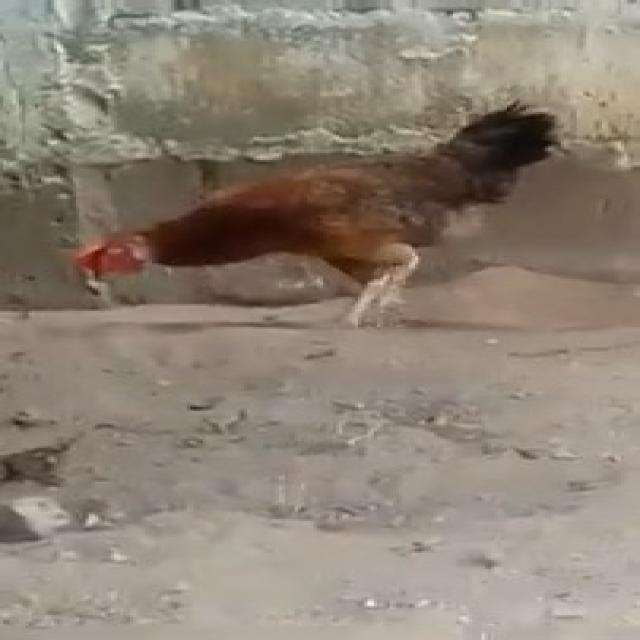stand bath: (64, 110, 552, 343)
